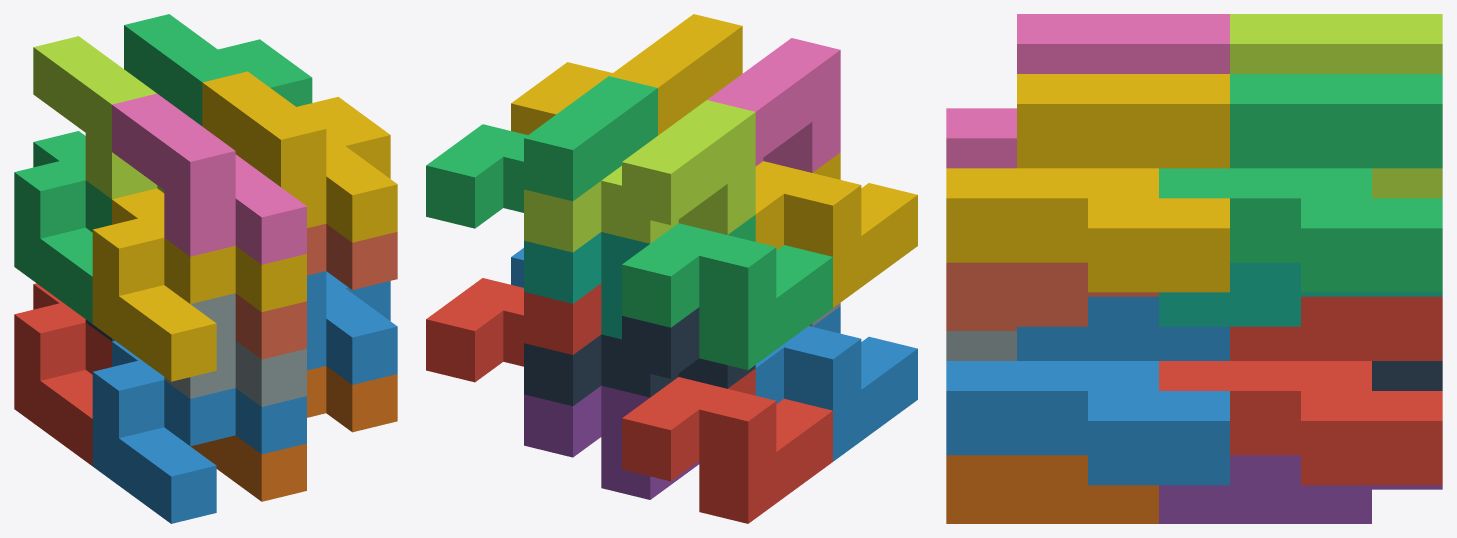
Rendered from tiling.obj.
3 renders of one model, left to right at view 1: azimuth 30°, elevation 25°; view 2: azimuth 150°, elevation 25°; view 3: azimuth 270°, elevation 25°, orthographic. The views are drawn at different scales.
Visible parts, largest first — view 1: copy_1_domain_4, copy_1_domain_2, copy_2_domain_8, copy_2_domain_4, copy_1_domain_3, copy_1_domain_1, copy_2_domain_7, copy_2_domain_3, copy_1_domain_6, copy_2_domain_6, copy_1_domain_8, copy_2_domain_2; view 2: copy_1_domain_3, copy_1_domain_1, copy_2_domain_3, copy_2_domain_7, copy_1_domain_4, copy_1_domain_2, copy_2_domain_5, copy_2_domain_8, copy_2_domain_1, copy_2_domain_4, copy_1_domain_5, copy_1_domain_7; view 3: copy_2_domain_8, copy_2_domain_7, copy_2_domain_6, copy_2_domain_5, copy_2_domain_4, copy_2_domain_3, copy_1_domain_6, copy_1_domain_5, copy_1_domain_8, copy_1_domain_7, copy_2_domain_1, copy_2_domain_2.
Part boxes in pixels (box(x1,y1,x2,y2)): copy_1_domain_4: box(92, 188, 306, 381); copy_1_domain_2: box(92, 341, 306, 523); copy_2_domain_8: box(202, 71, 397, 242); copy_2_domain_4: box(112, 93, 306, 264); copy_1_domain_3: box(14, 131, 111, 323); copy_1_domain_1: box(14, 283, 111, 465); copy_2_domain_7: box(124, 14, 312, 125); copy_2_domain_3: box(33, 36, 164, 199); copy_1_domain_6: box(190, 366, 397, 501); copy_2_domain_6: box(307, 271, 397, 384); copy_1_domain_8: box(235, 223, 397, 359); copy_2_domain_2: box(164, 293, 306, 406); copy_1_domain_3: box(622, 215, 832, 369); copy_1_domain_1: box(622, 368, 832, 523); copy_2_domain_3: box(524, 100, 755, 252); copy_2_domain_7: box(426, 76, 657, 228); copy_1_domain_4: box(755, 152, 917, 307); copy_1_domain_2: box(755, 306, 917, 461); copy_2_domain_5: box(426, 278, 601, 382); copy_2_domain_8: box(511, 14, 742, 135); copy_2_domain_1: box(524, 307, 755, 406); copy_2_domain_4: box(707, 38, 840, 172); copy_1_domain_5: box(524, 385, 699, 499); copy_1_domain_7: box(524, 232, 649, 339); copy_2_domain_8: box(946, 74, 1229, 292); copy_2_domain_7: box(1159, 74, 1442, 292); copy_2_domain_6: box(946, 296, 1229, 485); copy_2_domain_5: box(1159, 296, 1442, 485); copy_2_domain_4: box(946, 14, 1229, 168); copy_2_domain_3: box(1230, 14, 1442, 198); copy_1_domain_6: box(946, 455, 1158, 523); copy_1_domain_5: box(1159, 455, 1442, 523); copy_1_domain_8: box(946, 262, 1158, 330); copy_1_domain_7: box(1159, 262, 1442, 326); copy_2_domain_1: box(1372, 361, 1442, 390); copy_2_domain_2: box(946, 331, 1016, 360).
Bounding box in the file's own units: 6 × 7 × 7.
